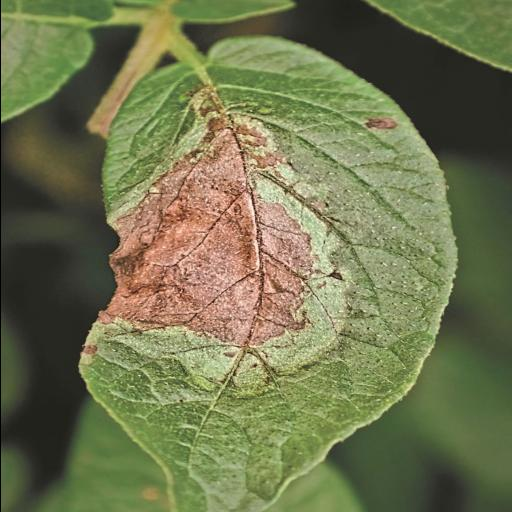disease_tomato: (71, 30, 463, 512)
